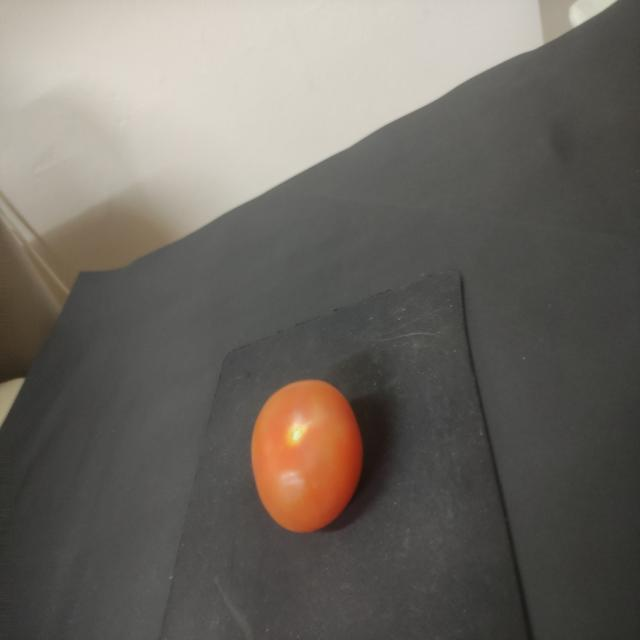sari: (243, 376, 369, 544)
